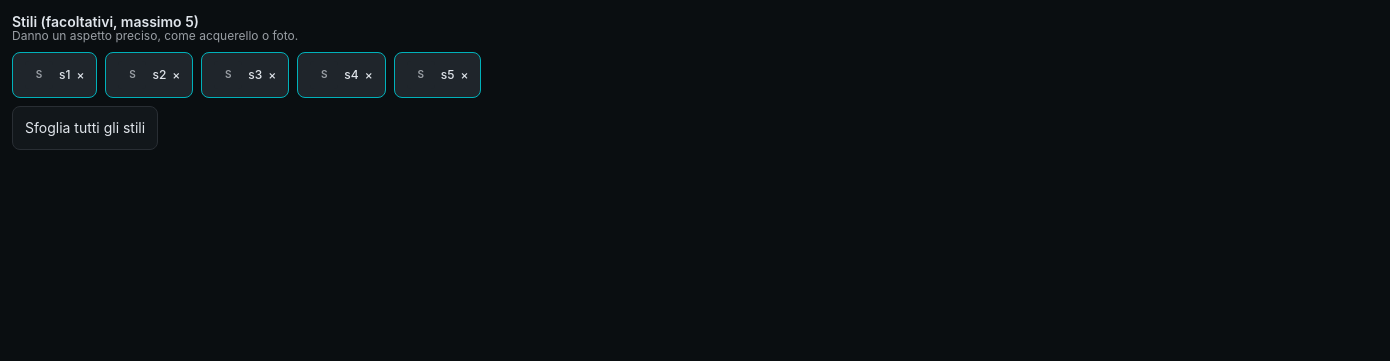
Test: StyleSelector › disables unselected style buttons once 5 styles are selected (SPEC.md § 3.5 max)
The image size is (1390, 361).
Step 1. Click the button "Sfoglia tutti gli stili" → (85, 128), box 12,106 -> 158,150
Wait 300 ms
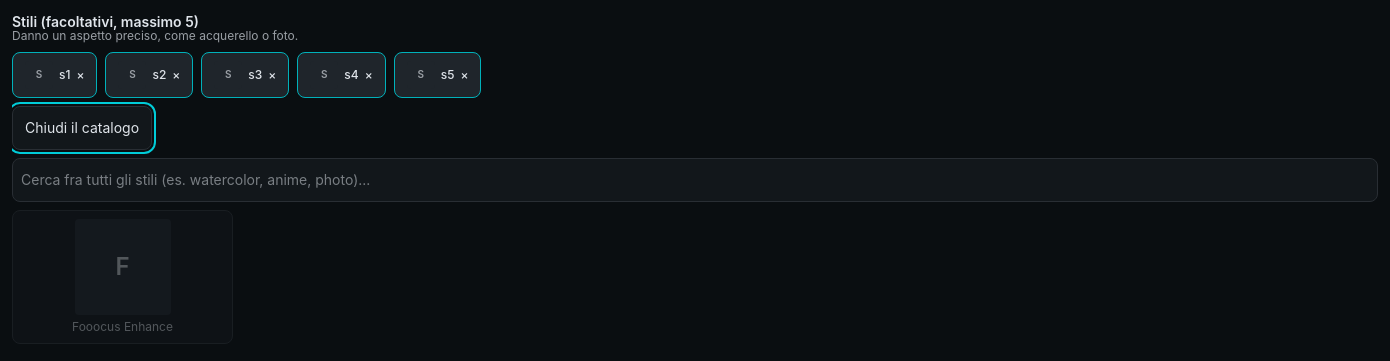
Now the button "F Fooocus Enhance" is disabled, box 12,210 -> 233,344
